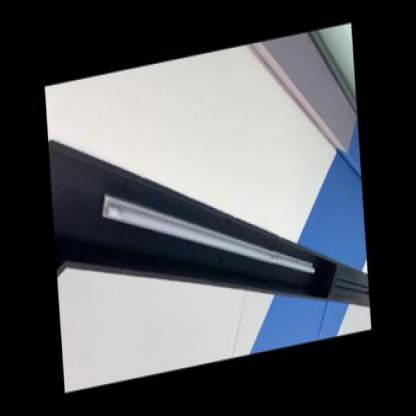light_off: (94, 127, 320, 327)
